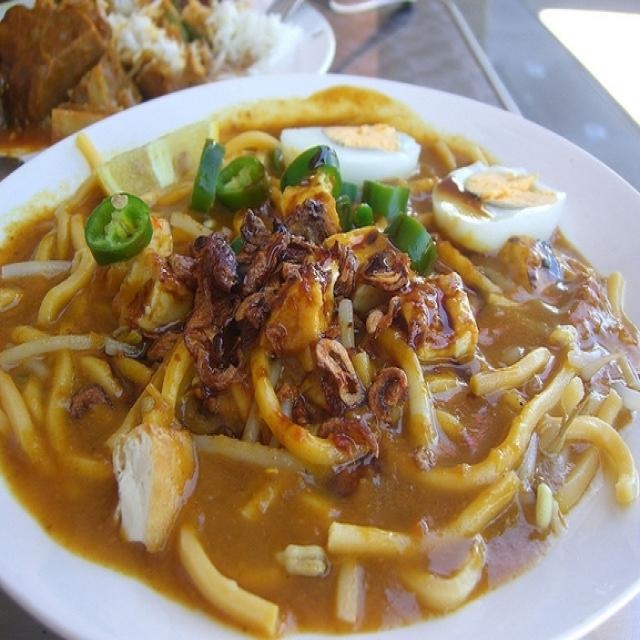面条主食: (24, 21, 624, 615)
